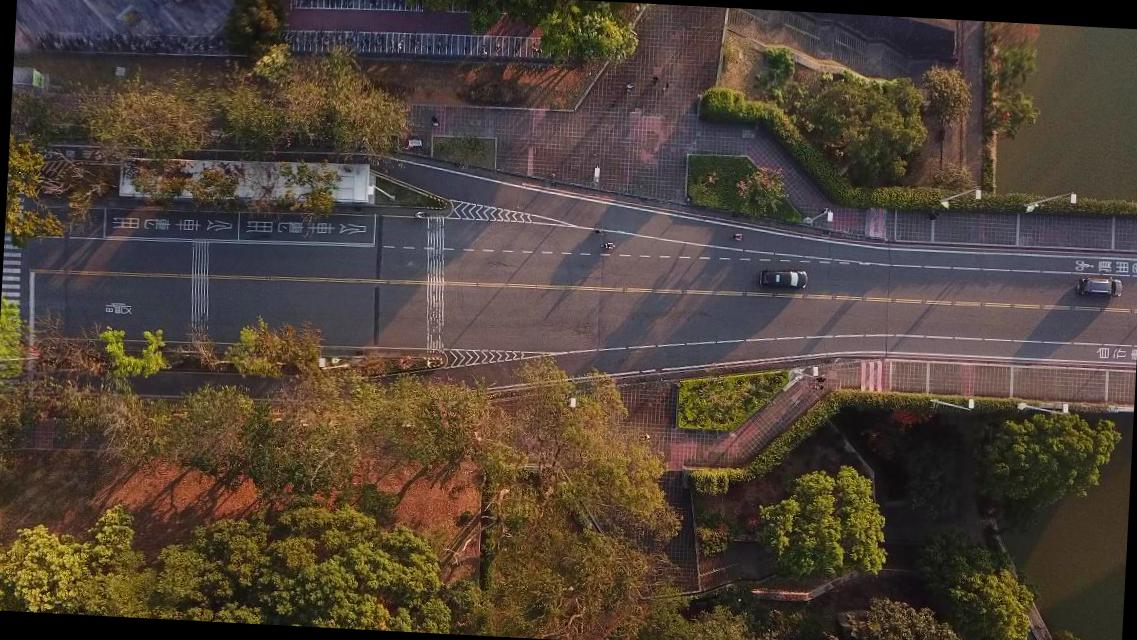vehicle: (758, 267, 807, 289), (1076, 276, 1122, 296)
